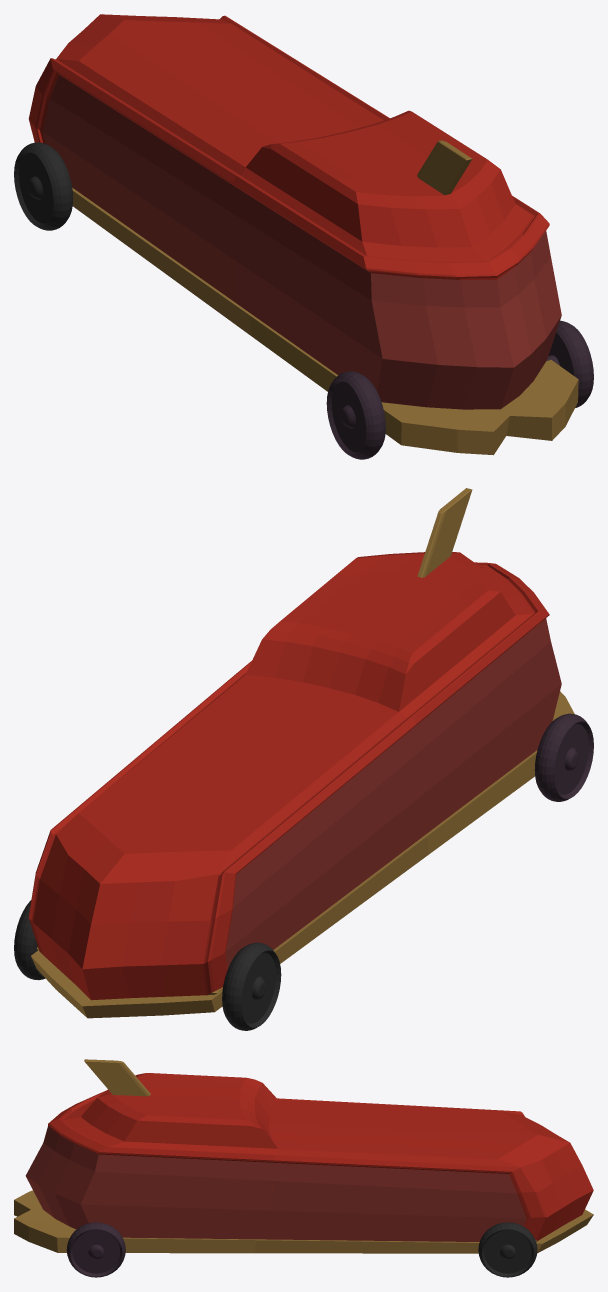
File: ToyCarfbx.fbx
The picture shows the model from 3 angles, top to bottom: view 1: azimuth 30°, elevation 25°; view 2: azimuth 150°, elevation 25°; view 3: azimuth 270°, elevation 25°; orthographic projection. The views are drawn at different scales.
Parts seen in each view (by area): view 1: Cube.004, Circle.005, Circle.004; view 2: Cube.004, Circle.004, Circle.005; view 3: Cube.004, Circle.005, Circle.004.
Part boxes in pixels (bbox=[...]): Cube.004: bbox=[28, 14, 578, 455]; Circle.005: bbox=[326, 320, 593, 459]; Circle.004: bbox=[14, 142, 73, 230]; Cube.004: bbox=[28, 488, 574, 1018]; Circle.004: bbox=[14, 900, 281, 1030]; Circle.005: bbox=[534, 713, 593, 801]; Cube.004: bbox=[14, 1059, 593, 1253]; Circle.005: bbox=[66, 1222, 125, 1277]; Circle.004: bbox=[478, 1222, 537, 1277].
Size of the model in its own units: 296 by 340 by 975.
